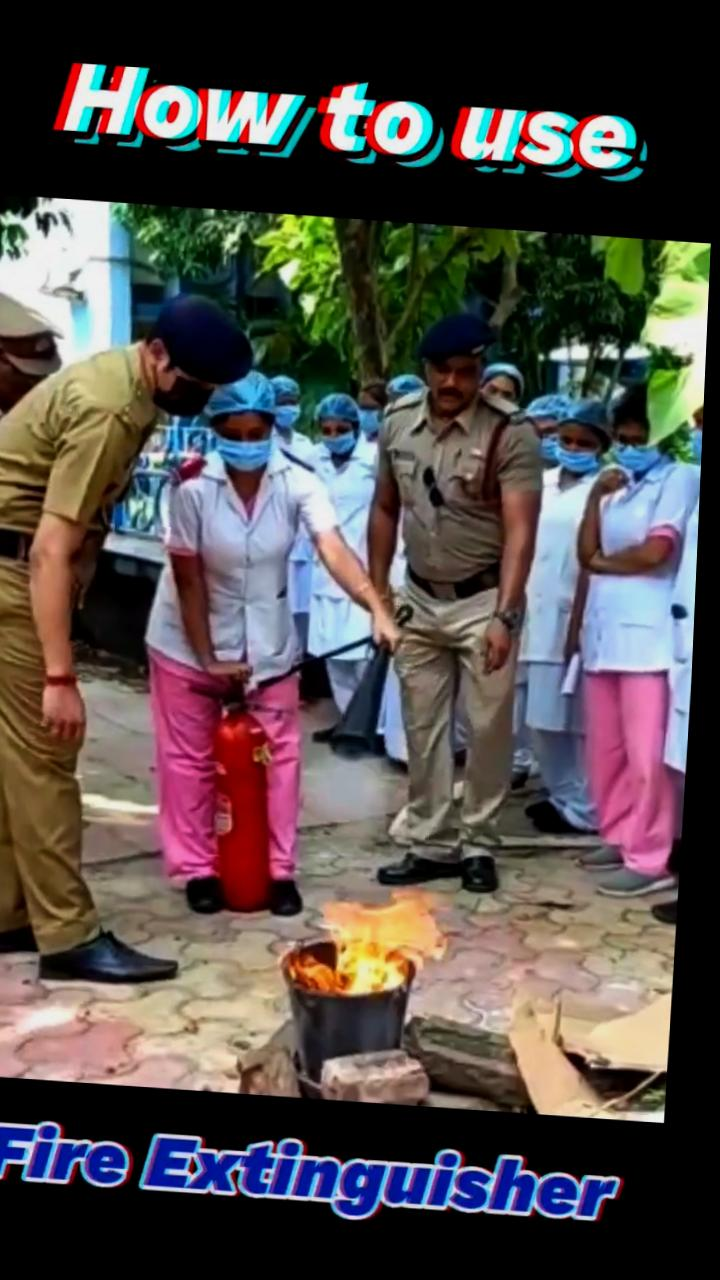FireExtinguisher: (220, 696, 301, 913)
not: (570, 641, 698, 870), (142, 644, 238, 908), (251, 670, 364, 888), (297, 911, 456, 1020)
